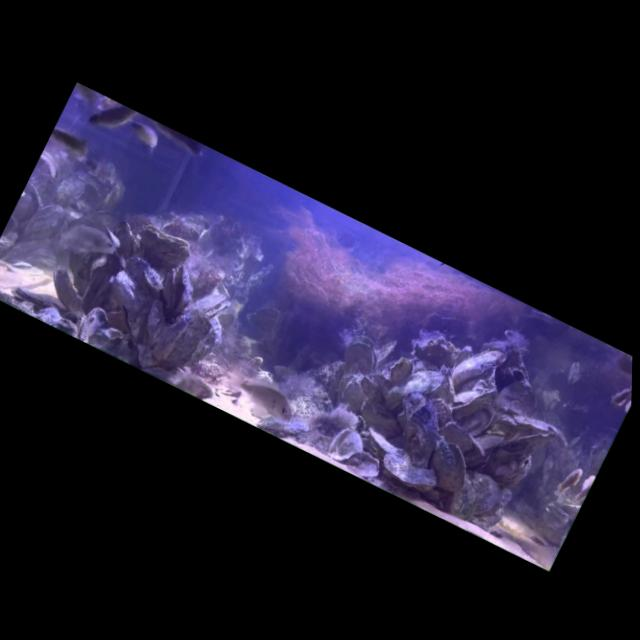Oyster-Closed: (93, 250, 174, 345), (379, 385, 458, 471), (381, 354, 446, 426), (447, 333, 509, 402), (375, 446, 443, 499), (168, 311, 216, 377), (453, 467, 508, 522), (446, 373, 498, 431), (149, 306, 194, 368), (9, 278, 72, 322), (360, 425, 417, 468), (443, 471, 489, 524), (133, 296, 175, 352), (354, 401, 405, 442), (426, 362, 468, 408), (93, 226, 131, 264)
Oyster-Indeterminate: (16, 196, 71, 266), (493, 401, 561, 449), (51, 239, 105, 299), (503, 416, 556, 470), (40, 262, 94, 314), (3, 180, 48, 242), (186, 315, 230, 376), (409, 328, 463, 377), (105, 217, 150, 265), (456, 394, 500, 441), (74, 303, 112, 348), (436, 417, 479, 456), (420, 393, 460, 434), (343, 446, 386, 484), (160, 211, 203, 248), (470, 421, 509, 459), (384, 353, 417, 390), (354, 376, 390, 406)
Oyster-Open: (417, 431, 481, 498), (133, 220, 196, 273), (155, 261, 205, 319), (336, 328, 389, 382), (324, 423, 370, 469), (188, 284, 233, 328), (30, 149, 69, 188)
